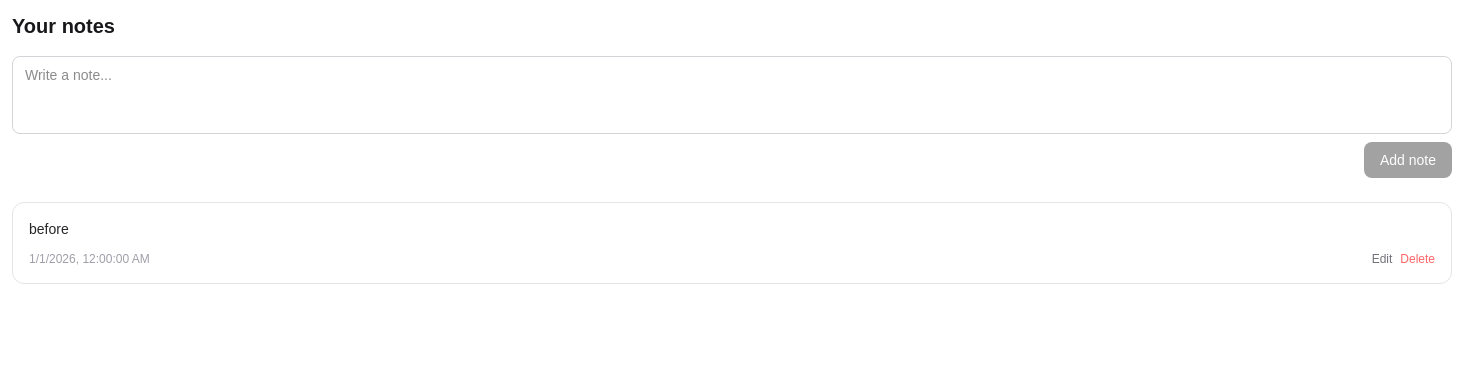
Test case: Notes › edits a note in place
Expected: the text "before" is shown, [29, 221, 69, 237]
Click the button "Edit" at (1382, 259), box [1372, 251, 1392, 267]
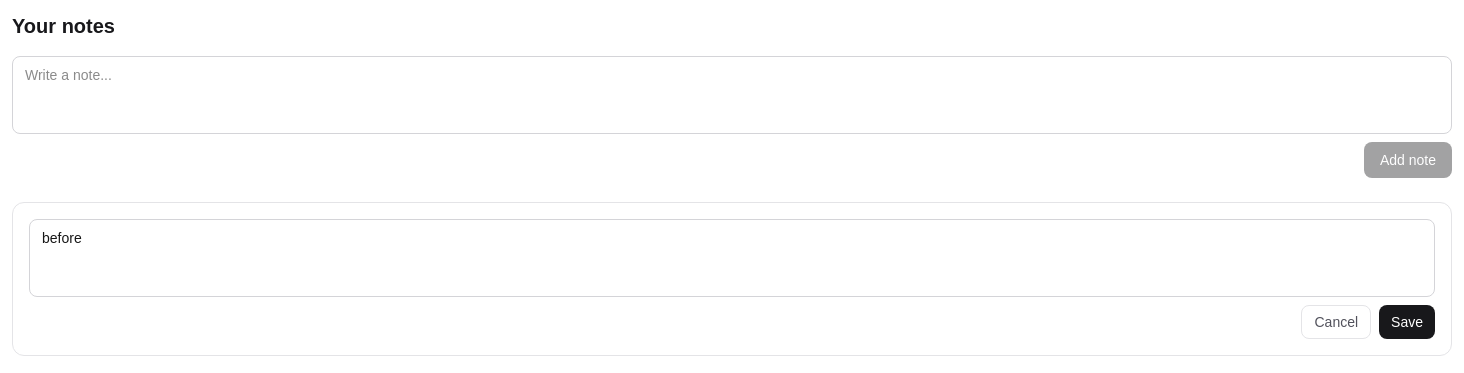
Replace the text in the text box showing "before" with "after" at (732, 258), box [29, 219, 1435, 297]
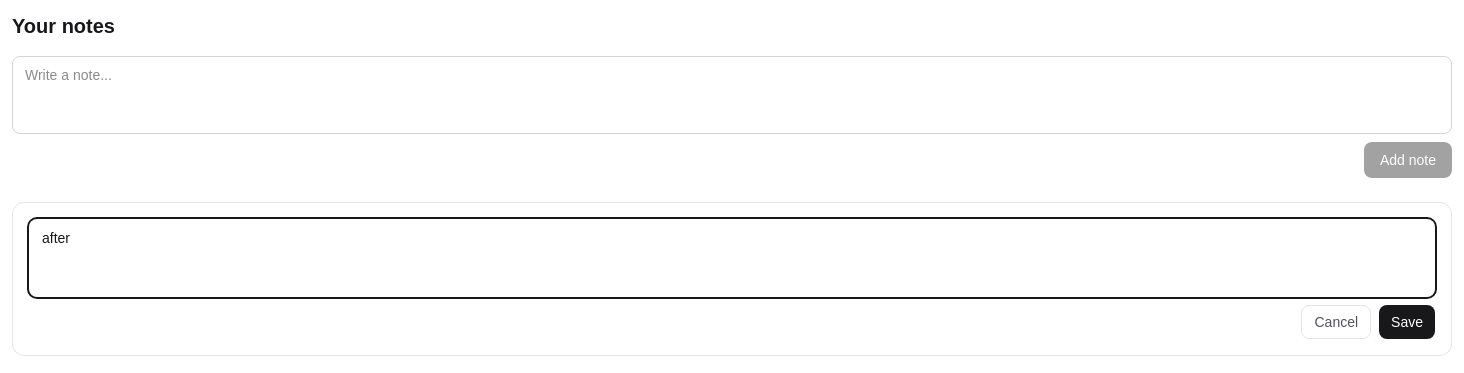
Click the button "Save" at (1407, 322), box [1379, 305, 1435, 339]
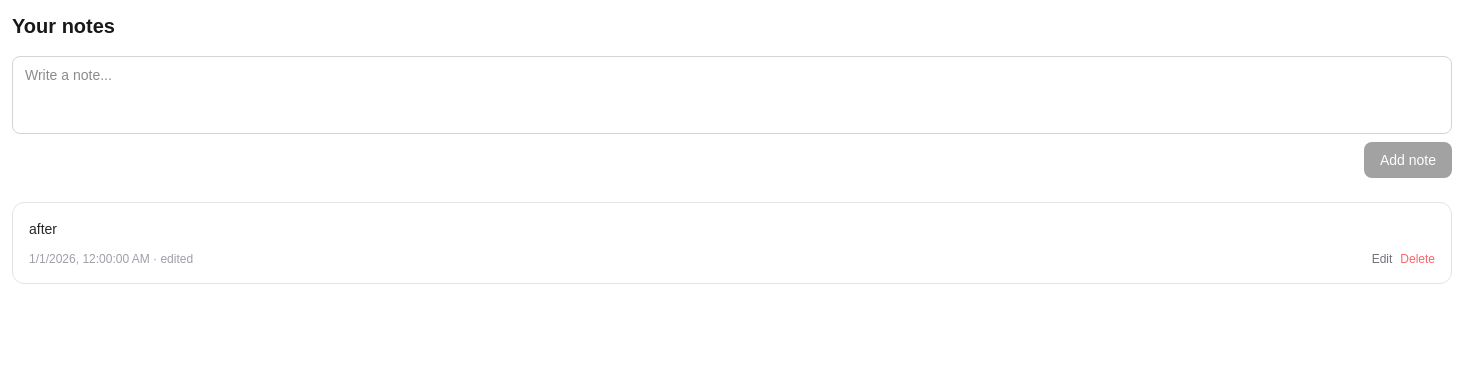
Expected: the text "before" is not shown
Expected: the text "after" is shown, [29, 221, 57, 237]
